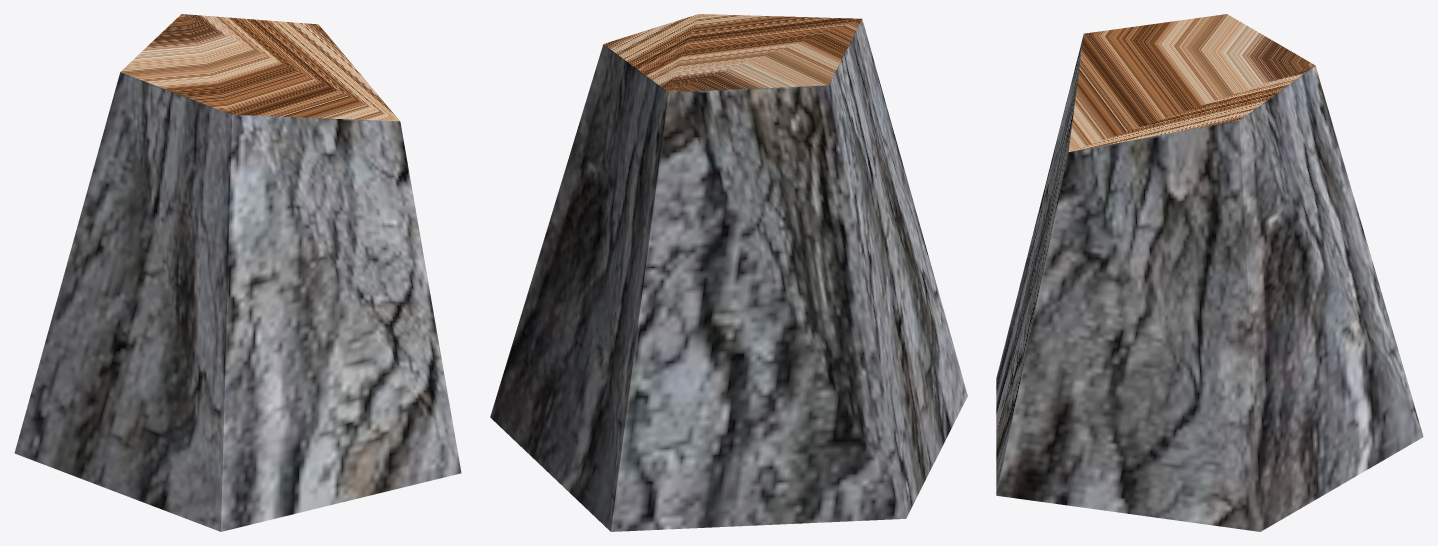
Rendered from tree_trunk.glb.
3 renders of one model, left to right at view 1: azimuth 30°, elevation 25°; view 2: azimuth 150°, elevation 25°; view 3: azimuth 270°, elevation 25°, orthographic. The views are drawn at different scales.
Visible parts, largest first — view 1: Cylinder; view 2: Cylinder; view 3: Cylinder.
Part boxes in pixels (<box>): Cylinder: <box>14,14,461,531</box>; Cylinder: <box>490,14,967,531</box>; Cylinder: <box>996,14,1423,531</box>.
Bounding box in the file's own units: 2 × 1.83 × 1.9.
Materials: 2 (2 with a texture image).
